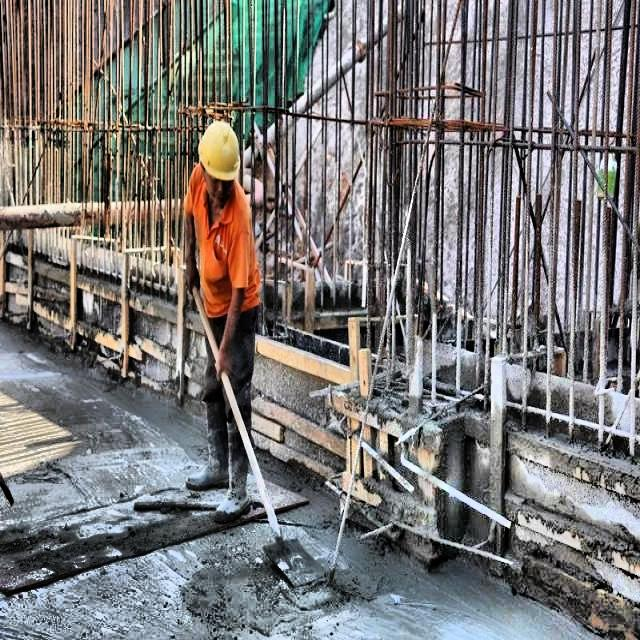person: (179, 110, 265, 490)
